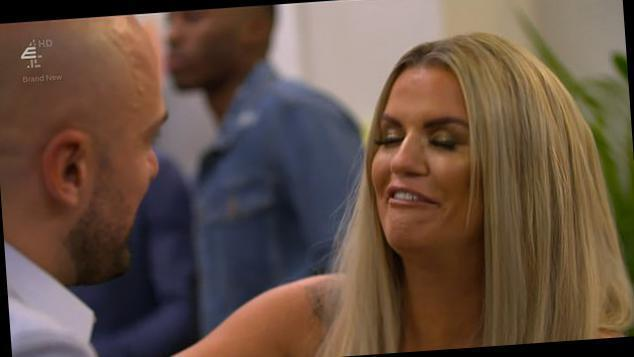Drunk: (370, 69, 469, 244)
